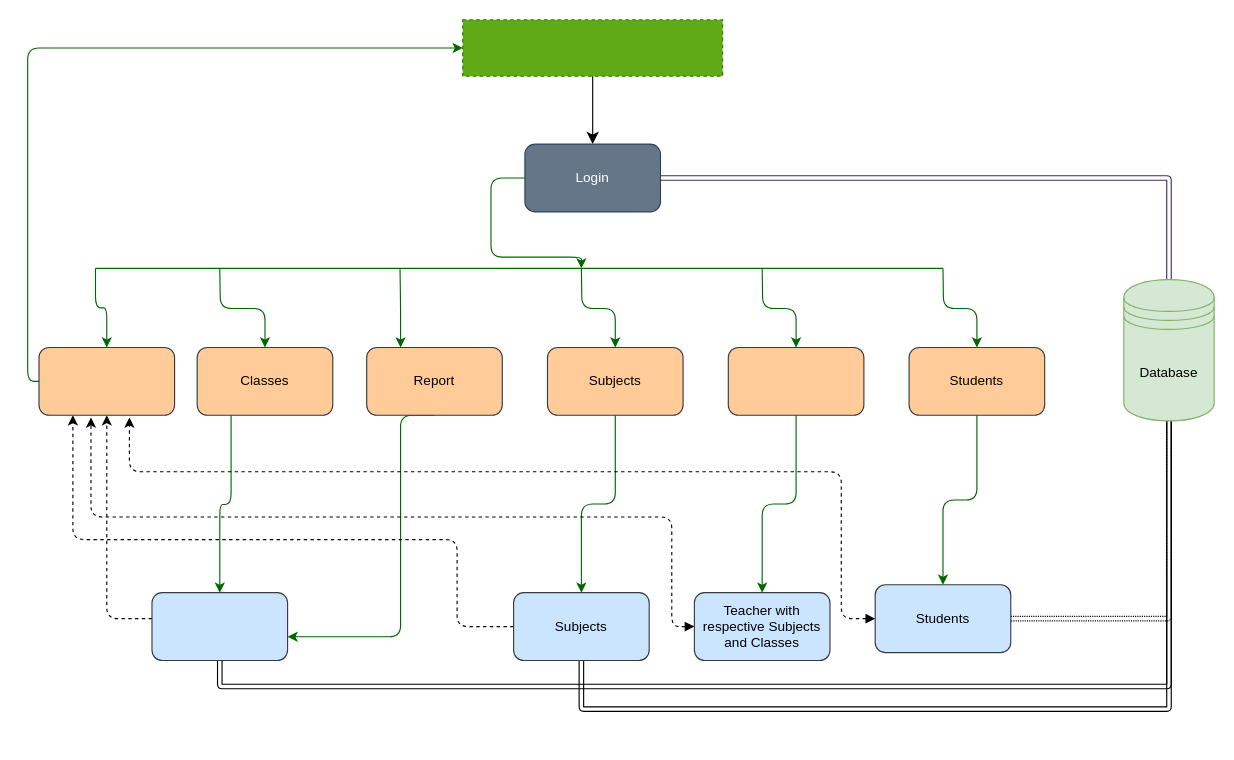
The diagram is 1234 pixels wide and 760 high, and some of its shapes have lost their labels. Here are the shapes that lost their labels. From the top down, the centre of each, then its label:
point 592,47: Home Page (Learner's Academy)
point 106,380: Logout
point 795,380: Teachers
point 219,626: Class With Students, Subjects and Teachers
